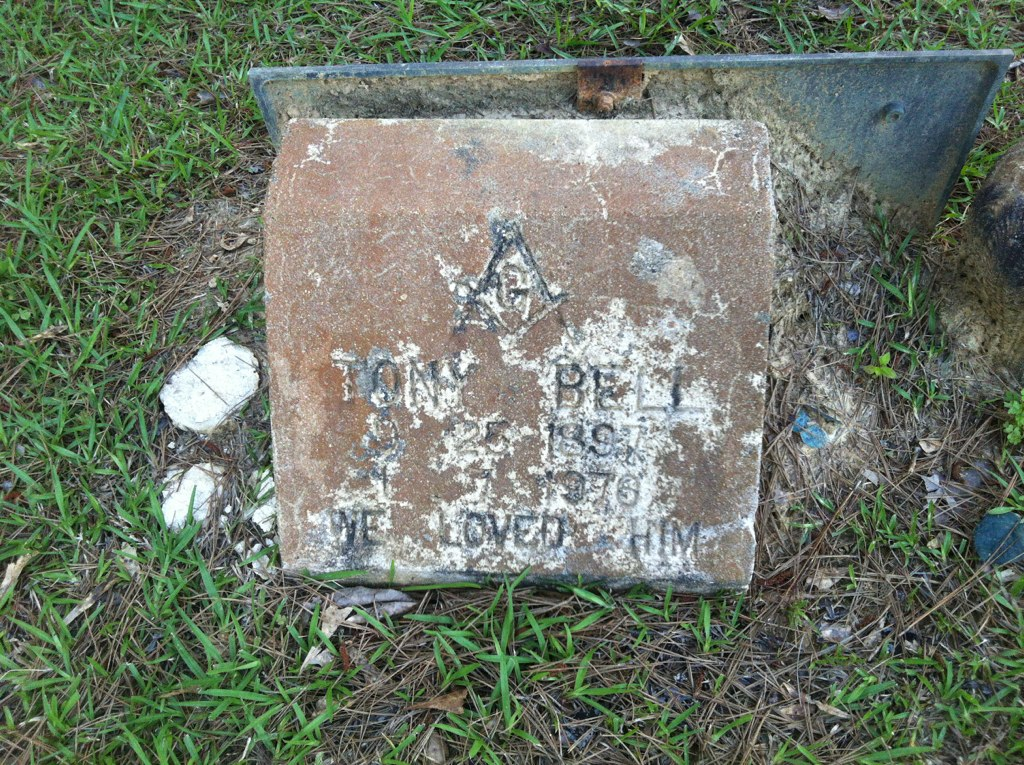slant: (260, 109, 775, 596)
